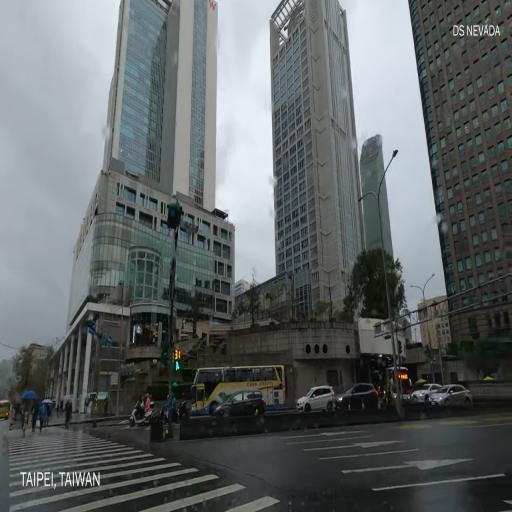Car: (184, 357, 291, 426), (330, 383, 384, 420), (430, 374, 478, 415), (296, 378, 339, 418), (384, 360, 413, 415), (408, 376, 448, 412), (0, 387, 14, 426)
